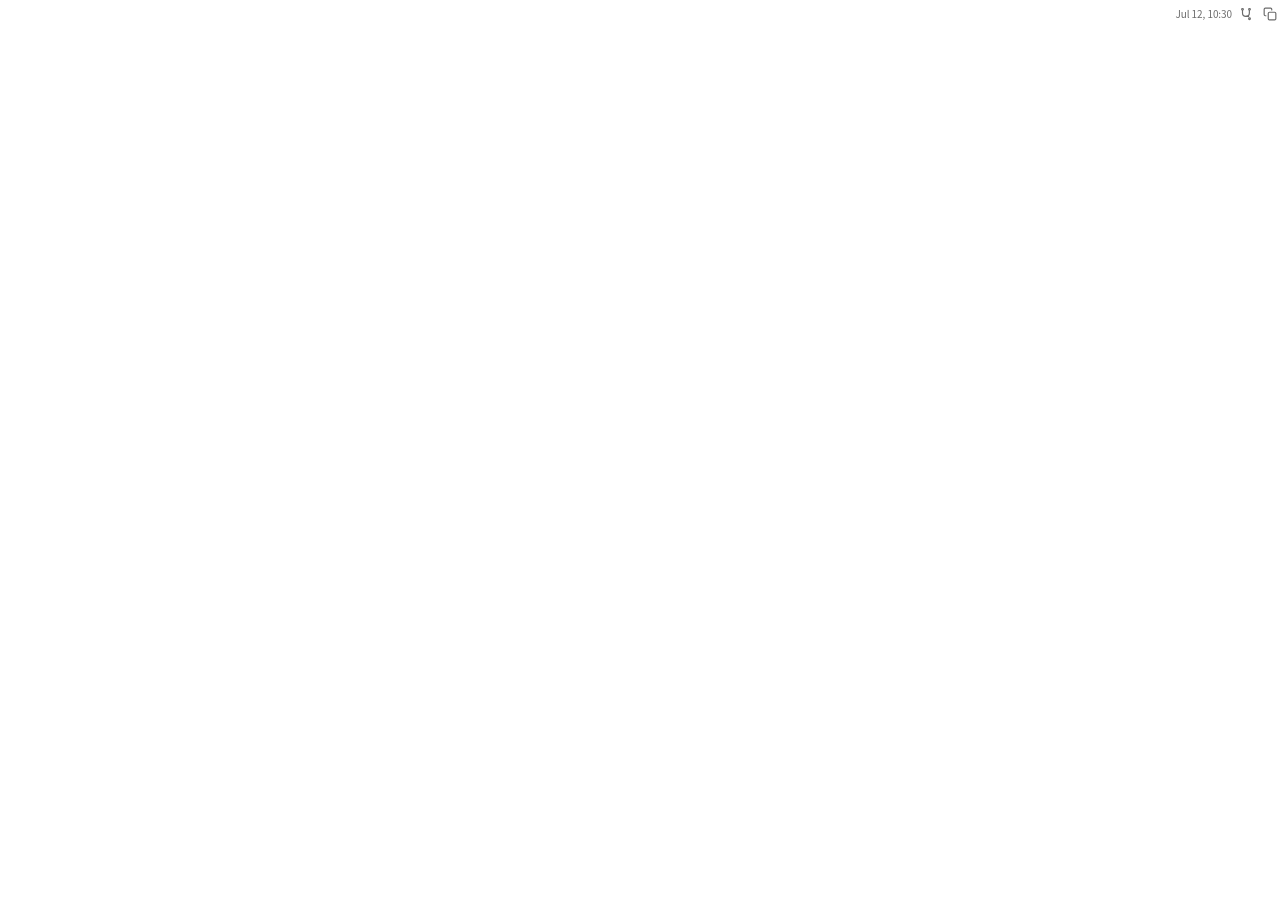
Scenario: MessageActions › localizes the Fork confirmation dialog in Simplified Chinese
The width and height of the screenshot is (1280, 900).
Later steps or results of the test are not shown.
Click the button named "分叉". click: (1246, 14)
box: x1=1236 y1=4 x2=1256 y2=24
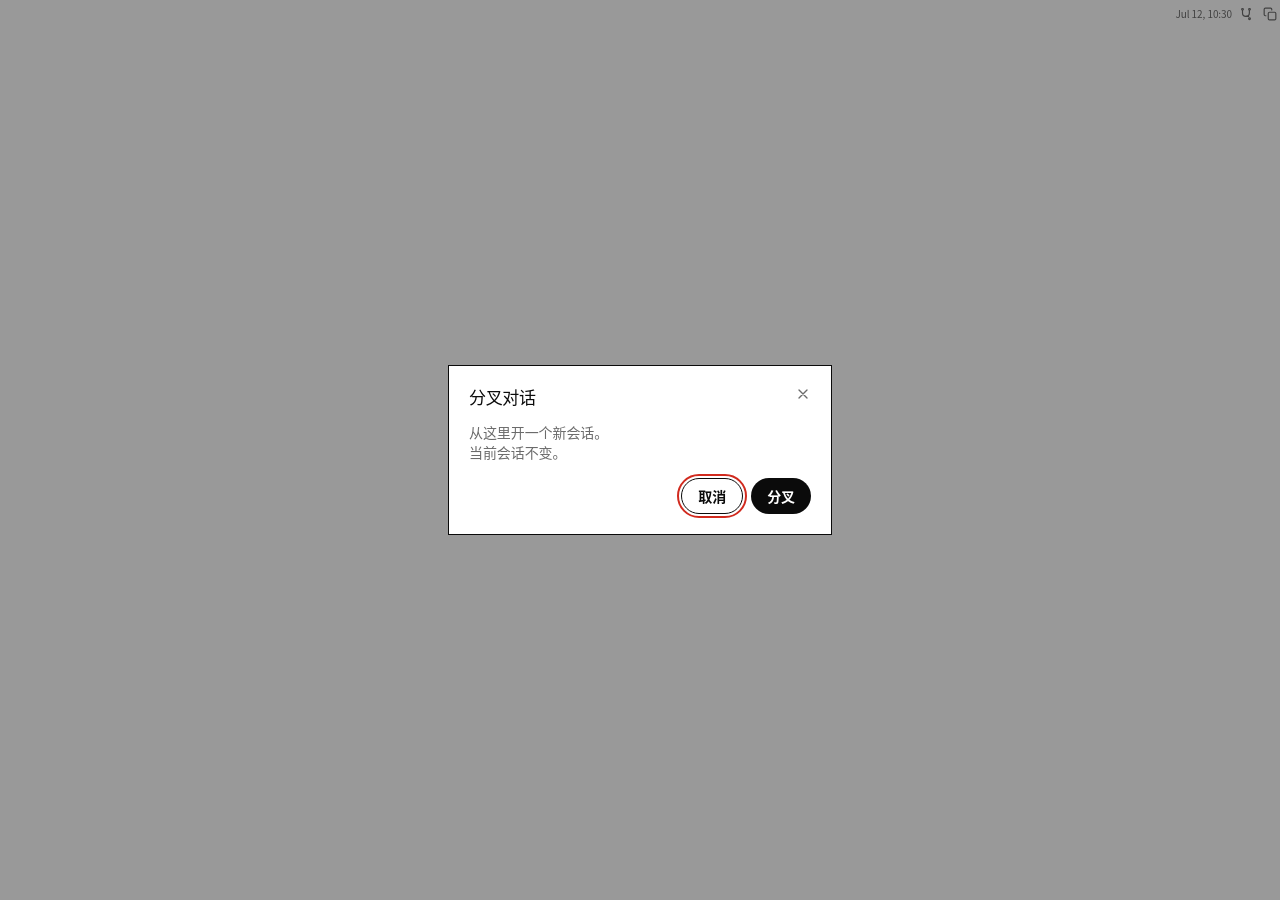
expect the dialog shows "分叉对话": met, box x1=469 y1=384 x2=536 y2=409
expect the dialog shows "从这里开一个新会话。": met, box x1=469 y1=422 x2=608 y2=462
expect the dialog shows "当前会话不变。": met, box x1=469 y1=422 x2=608 y2=462
Click the button "分叉". click: (781, 496)
box: x1=751 y1=478 x2=811 y2=514
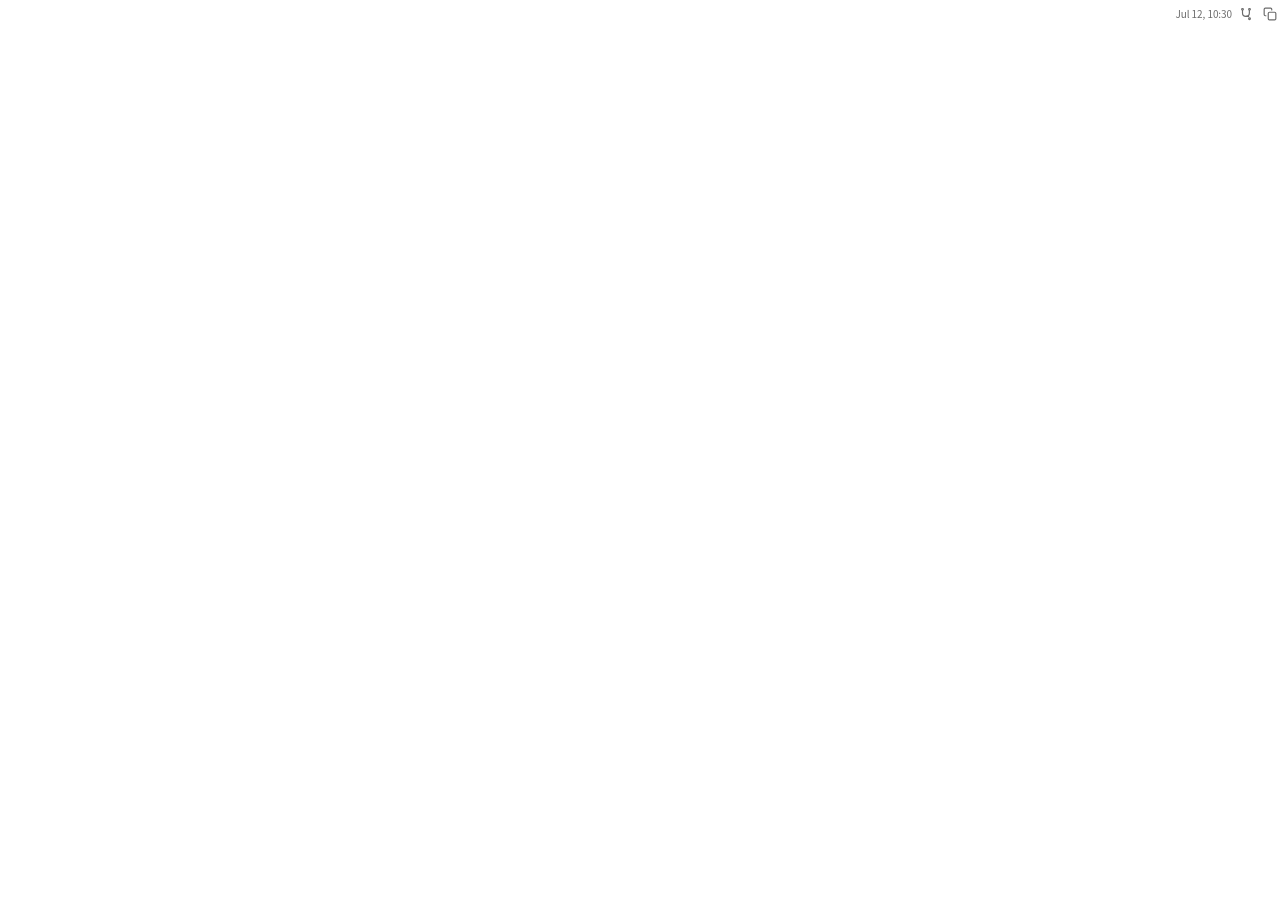
expect the dialog is gone: met
